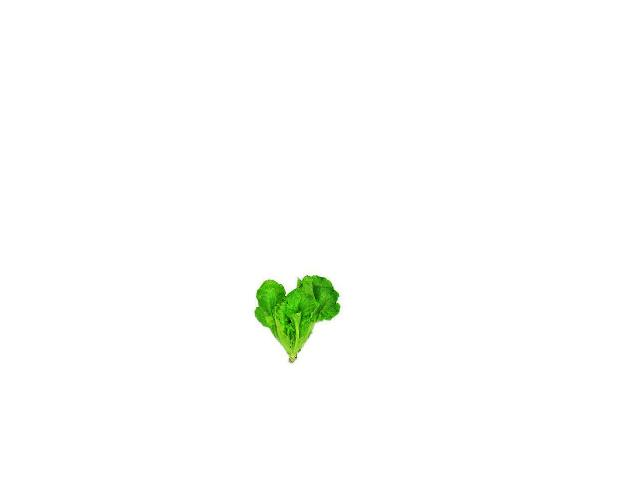lettuce: (251, 270, 344, 365)
